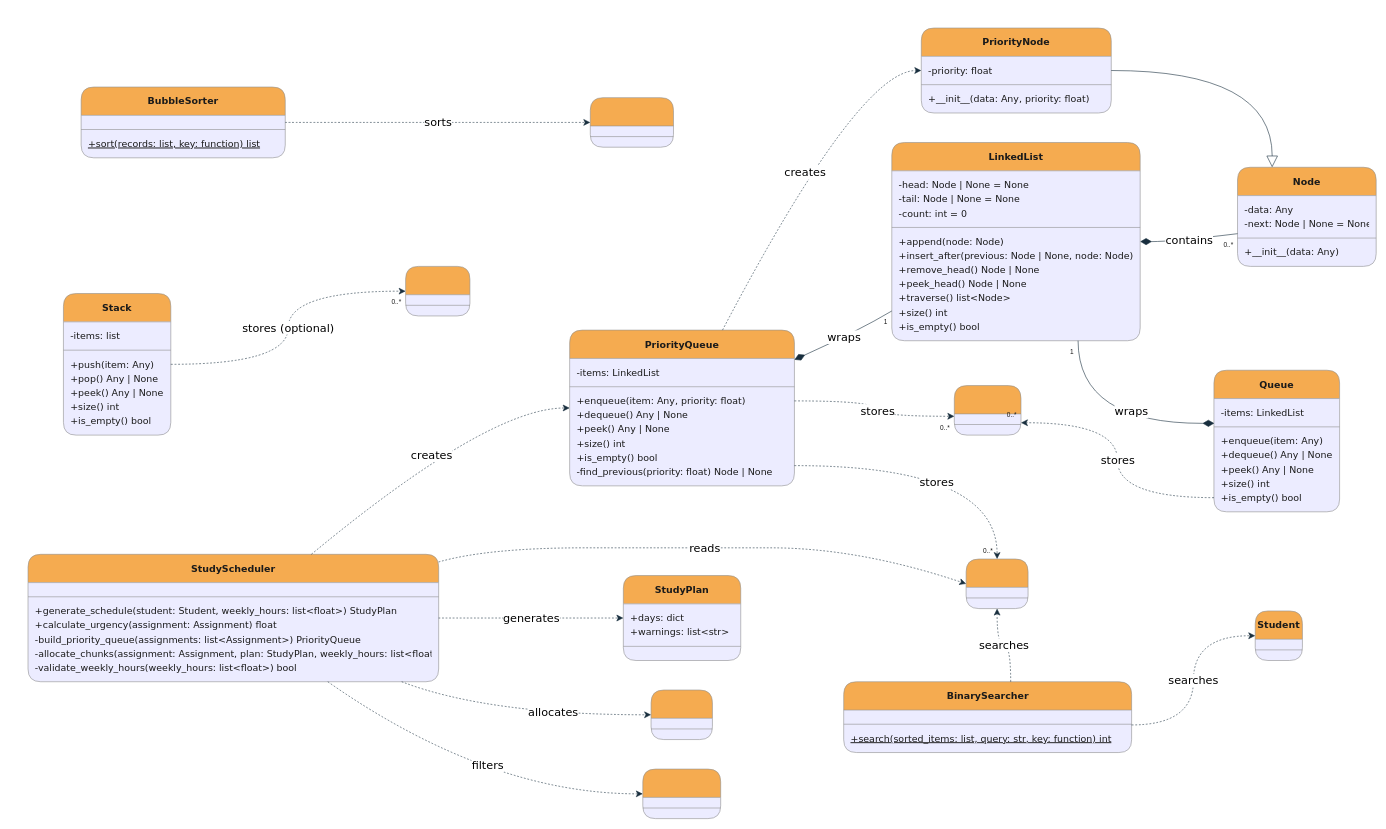
Image size: 1386x829. Some labels were removed from this diagram. Each missing label, with the centre of its shape:
Assignment: pixel 997 583
CompletionStats: pixel 631 122
HelpRequest: pixel 987 410
Notification: pixel 437 291
ProgressRecord: pixel 681 793
WorkChunk: pixel 681 714
